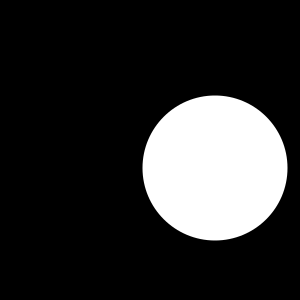rectangle: (142, 96, 288, 241)
